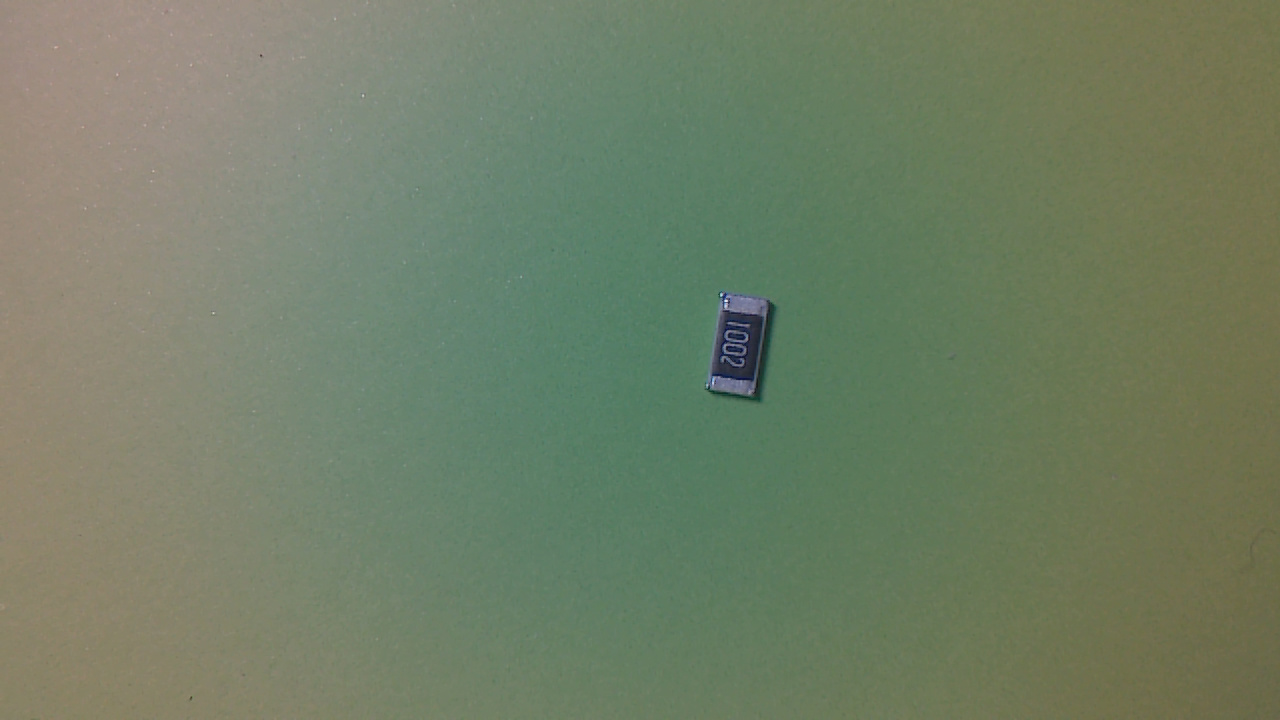Resistor: (707, 293, 780, 410)
